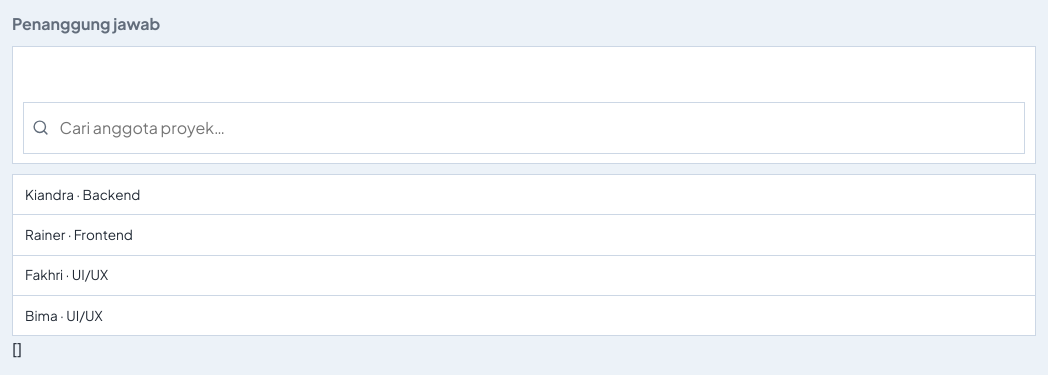
AssigneePicker multi-select chips › adds a chip for each selected member without replacing previous selections
The image size is (1048, 375).
Click the button "Kiandra · Backend": (83,194) [13,175,1035,214]
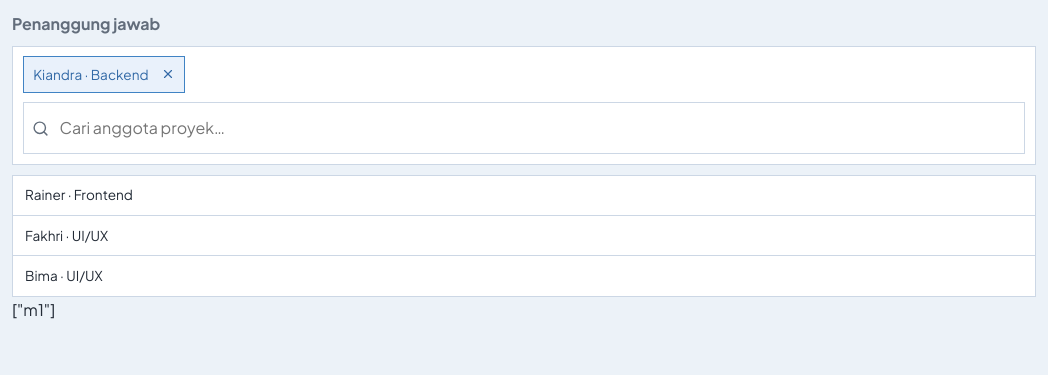
Click the button "Rainer · Frontend": (79,195) [13,176,1035,215]
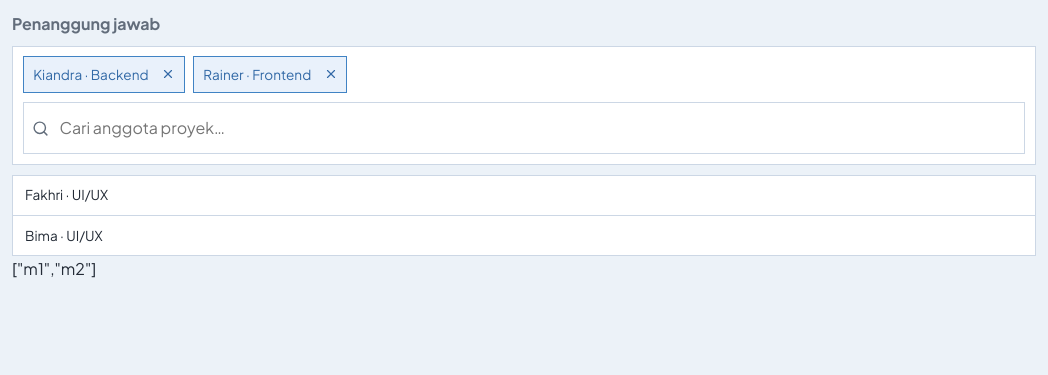
Click the button "Fakhri · UI/UX": (67,195) [13,176,1035,215]
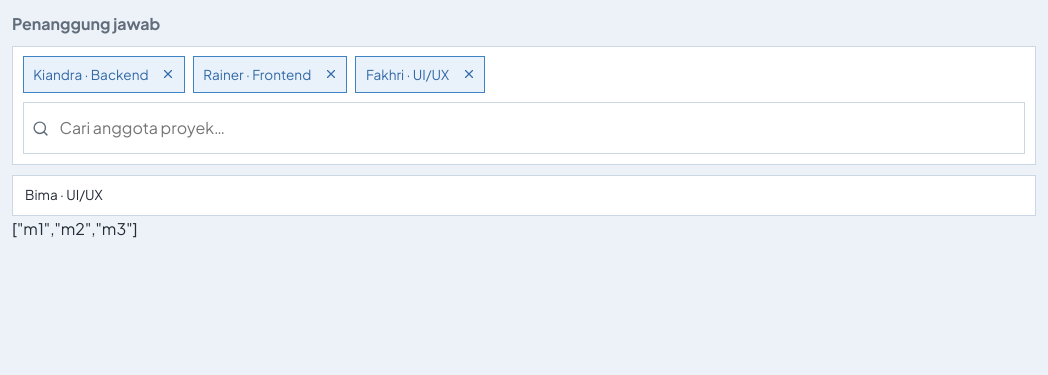
Expected: the number of elements with class "assignee-chip" is 3, [23,56,185,93]; [193,56,347,93]; [355,56,485,93]
